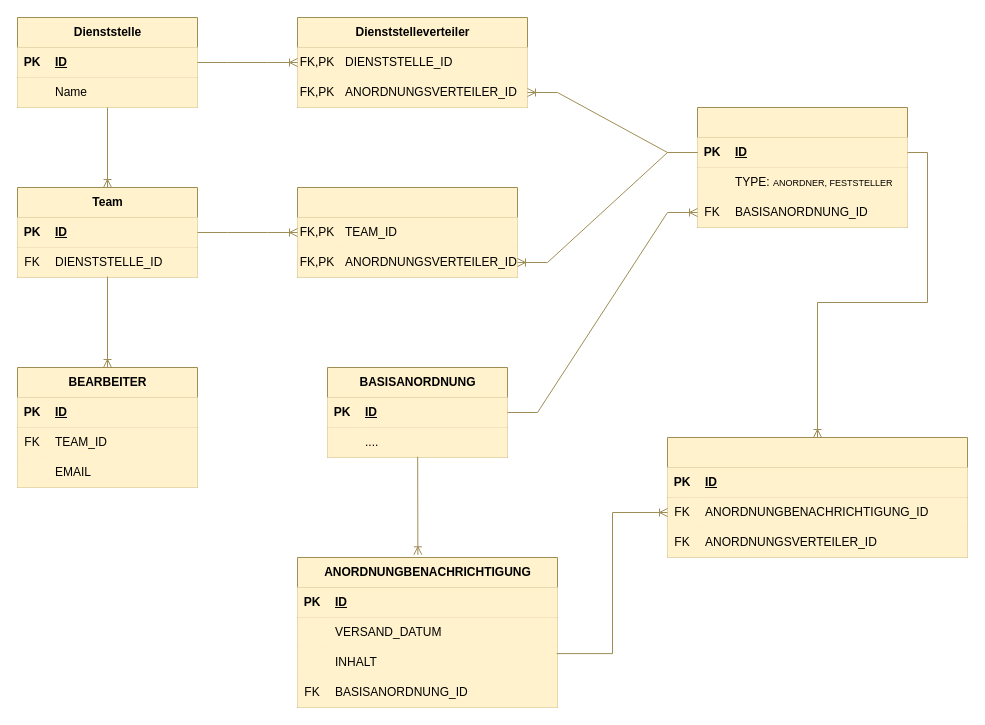
The diagram is 985 pixels wide and 725 high, and some of its shapes have lost their labels. The box of each missing label's shape, as (x1, y1, x2, y2) in pixels:
ANORDNUNGSVERTEILER: (696, 106, 908, 228)
BENACHRICHTIGEVERTEILER: (666, 436, 968, 558)
Teamverteiler: (296, 186, 518, 278)
